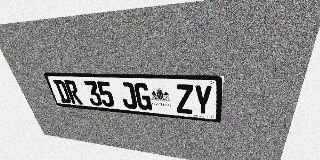3: (84, 81, 103, 106)
5: (96, 81, 115, 107)
D: (53, 80, 72, 103)
G: (133, 82, 152, 111)
J: (119, 82, 138, 109)
R: (64, 80, 83, 104)
Y: (194, 85, 213, 116)
Z: (175, 84, 193, 114)
